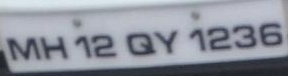character: (6, 36, 41, 63), (124, 31, 156, 56), (39, 36, 69, 60), (257, 21, 284, 47), (231, 23, 257, 48), (207, 25, 232, 50), (90, 34, 116, 58), (153, 30, 178, 53), (188, 27, 207, 53), (74, 34, 93, 58)
